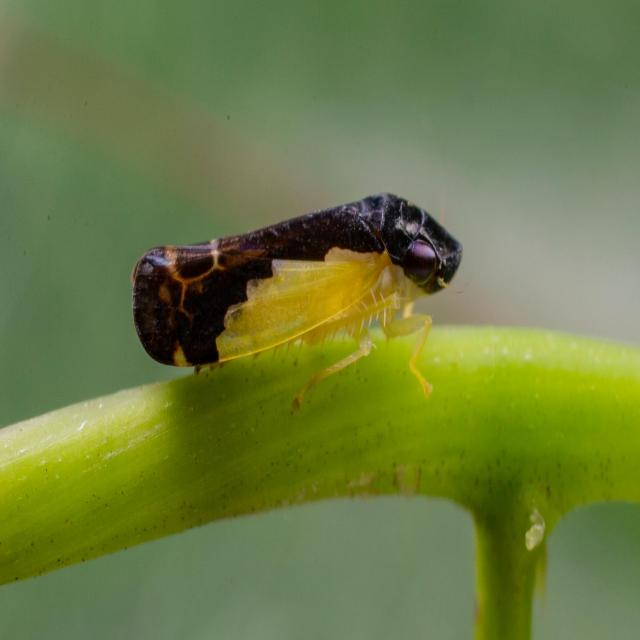Yechan: (122, 177, 460, 395)
